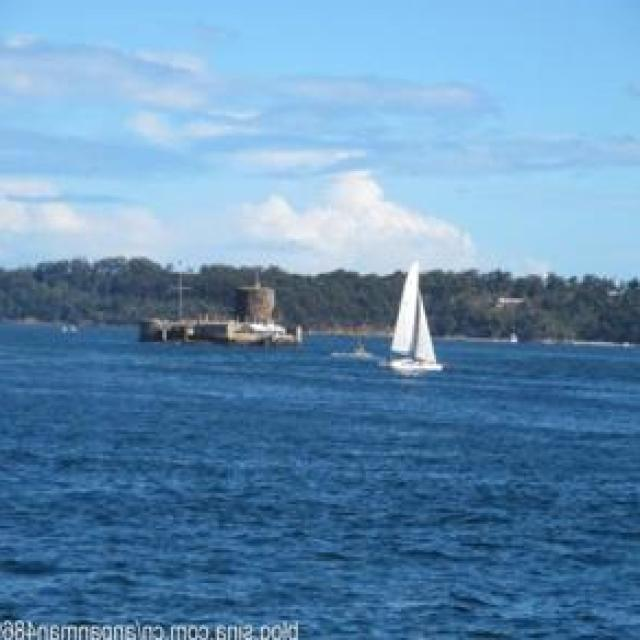sailboat: (388, 258, 452, 376)
